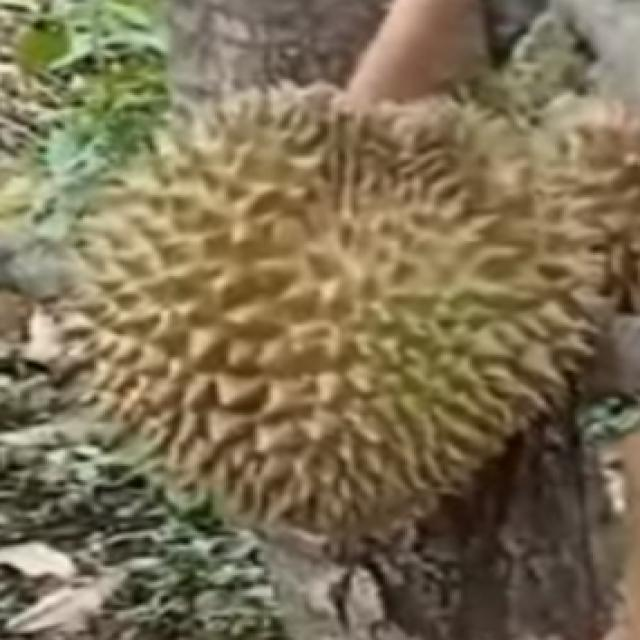mature: (41, 74, 599, 542)
